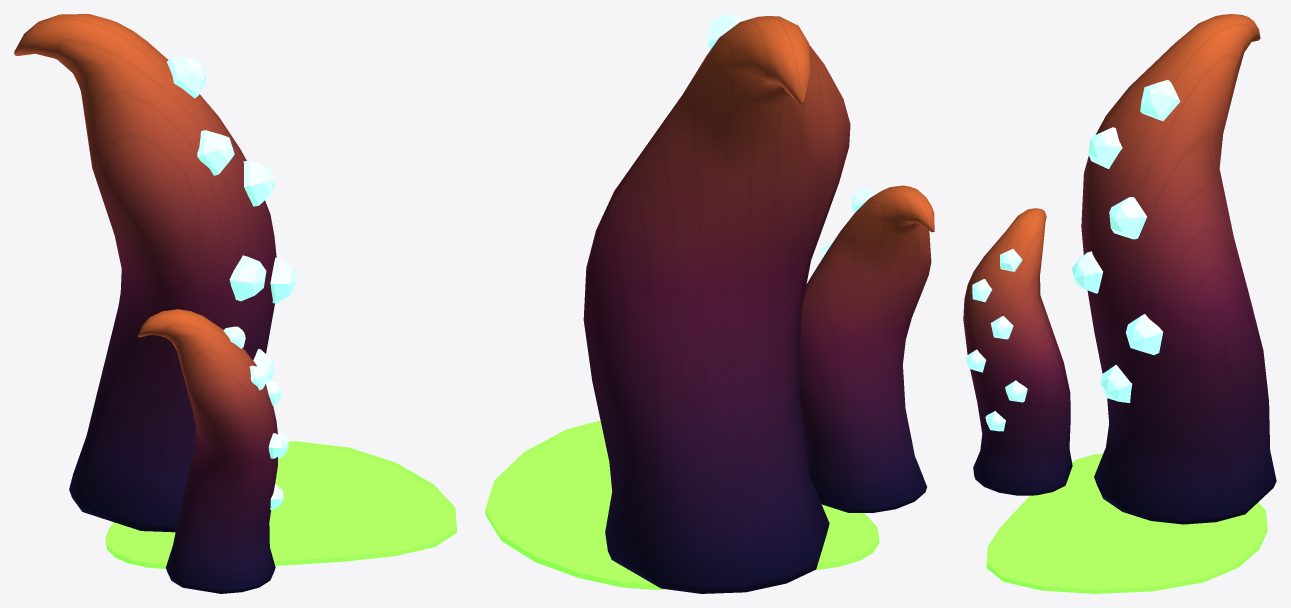
The model's file is Tentacle_Bloom.glb.
3 renders of one model, left to right at view 1: azimuth 30°, elevation 25°; view 2: azimuth 150°, elevation 25°; view 3: azimuth 270°, elevation 25°, orthographic. The views are drawn at different scales.
Visible parts, largest first — view 1: Vert.002, Vert.003, det3; view 2: Vert.002, Vert.003, det3; view 3: Vert.002, Vert.003, det3.
Part boxes in pixels (left/top/right/bottom): Vert.002: left=14, top=14, right=296, bottom=532; Vert.003: left=137, top=309, right=288, bottom=593; det3: left=105, top=441, right=456, bottom=568; Vert.002: left=583, top=14, right=850, bottom=593; Vert.003: left=799, top=185, right=934, bottom=512; det3: left=485, top=420, right=879, bottom=589; Vert.002: left=1071, top=14, right=1276, bottom=524; Vert.003: left=963, top=208, right=1072, bottom=495; det3: left=986, top=453, right=1267, bottom=593.
Size of what is drawn, in the model's own units: 7.47 by 10.64 by 6.75.
3 materials, 2 textured.
